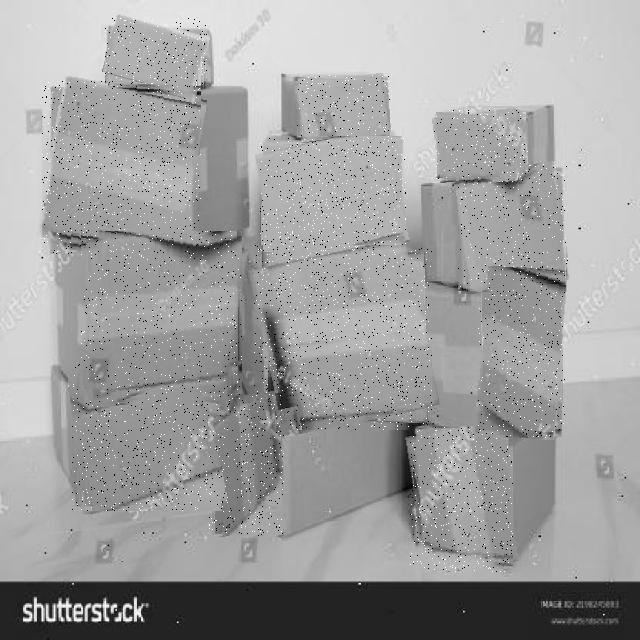BoxFace: (254, 245, 432, 430), (81, 231, 242, 406), (42, 81, 201, 254), (72, 364, 240, 511), (260, 136, 406, 259), (410, 426, 513, 572), (478, 266, 565, 438), (458, 164, 568, 291), (208, 392, 284, 536), (105, 18, 207, 90), (434, 110, 528, 181), (295, 75, 390, 142)
